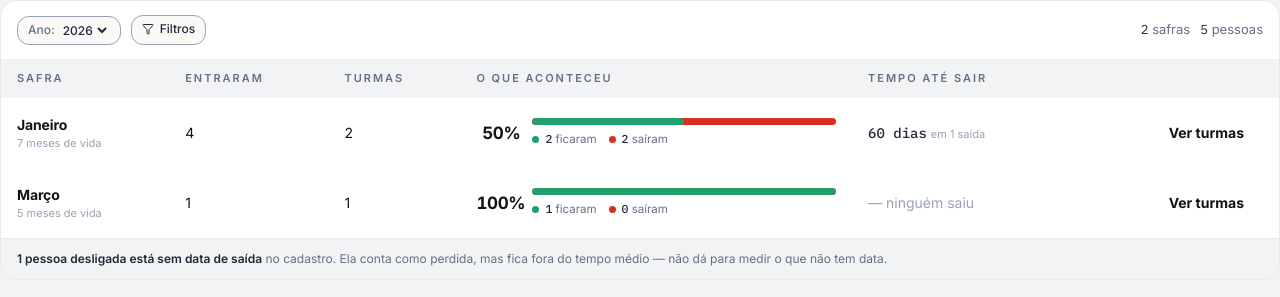
Test: Safra › avisa quando o recorte não tem ninguém, em vez de mostrar tabela vazia
The image size is (1280, 297).
expect the text "Janeiro" is shown: met, box x1=17 y1=116 x2=67 y2=133
Select "2024" in the dropdown named "Ordenar as safras por ano" at [84, 30], box x1=59 y1=22 x2=110 y2=38
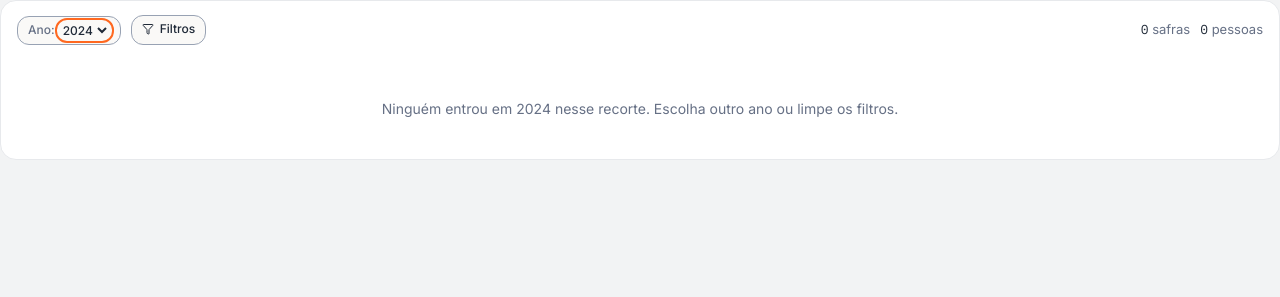
expect the text "Ninguém entrou em 2024" is shown: met, box x1=382 y1=100 x2=898 y2=117
